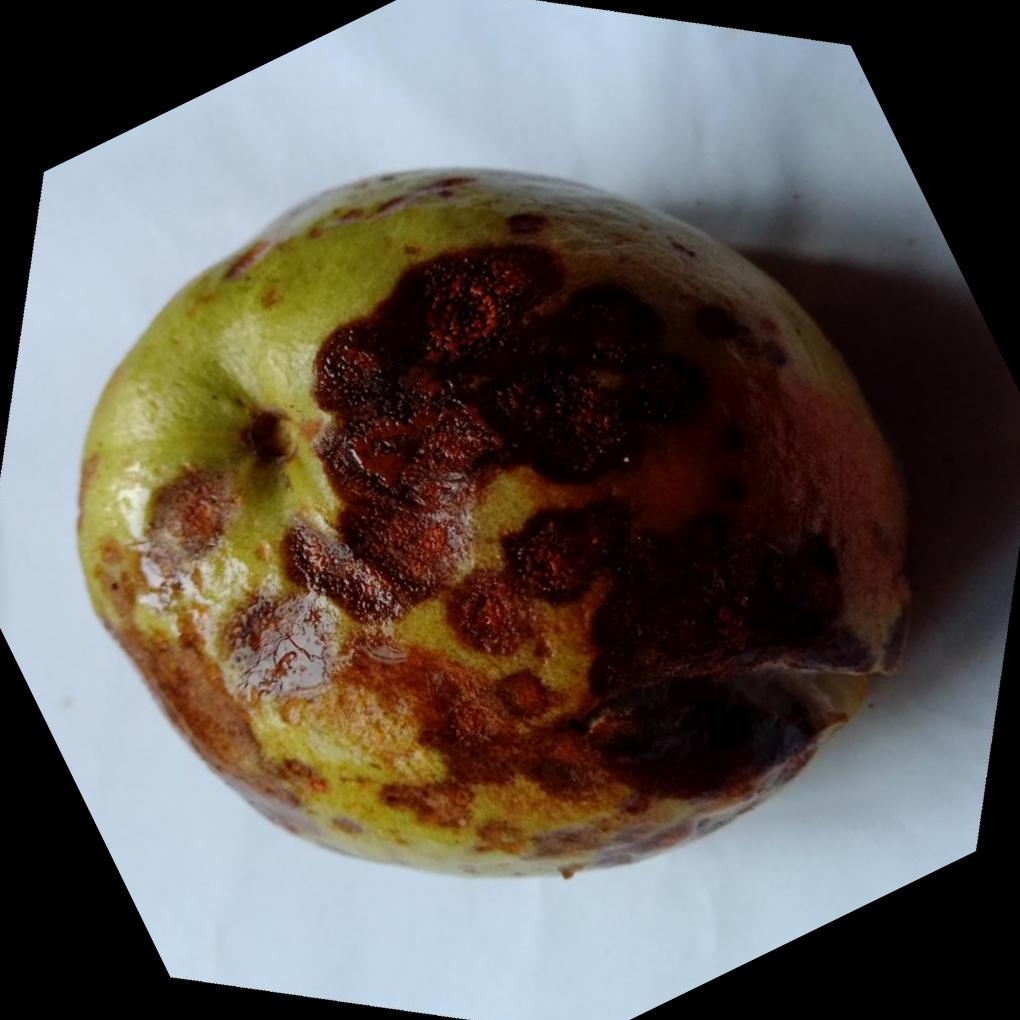FreshOrange: (78, 163, 919, 878)
